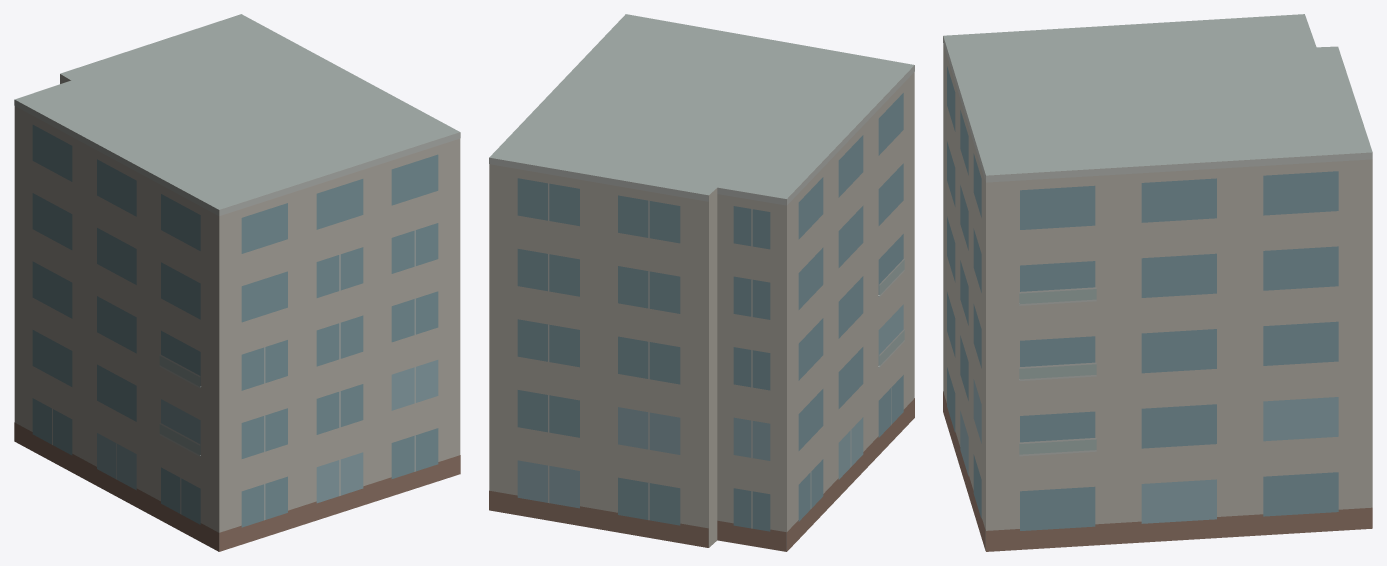
File: survey-upis-32533374.glb
3 renders of one model, left to right at view 1: azimuth 30°, elevation 25°; view 2: azimuth 150°, elevation 25°; view 3: azimuth 270°, elevation 25°, orthographic. The views are drawn at different scales.
Parts seen in each view (by area): view 1: survey-upis-32533374.tmp; view 2: survey-upis-32533374.tmp; view 3: survey-upis-32533374.tmp.
Part boxes in pixels (x1=…): survey-upis-32533374.tmp: x1=14, y1=14, x2=460, y2=551; survey-upis-32533374.tmp: x1=489, y1=14, x2=914, y2=551; survey-upis-32533374.tmp: x1=943, y1=14, x2=1372, y2=551.
Bounding box in the file's own units: 12.17 × 13.2 × 13.67.
